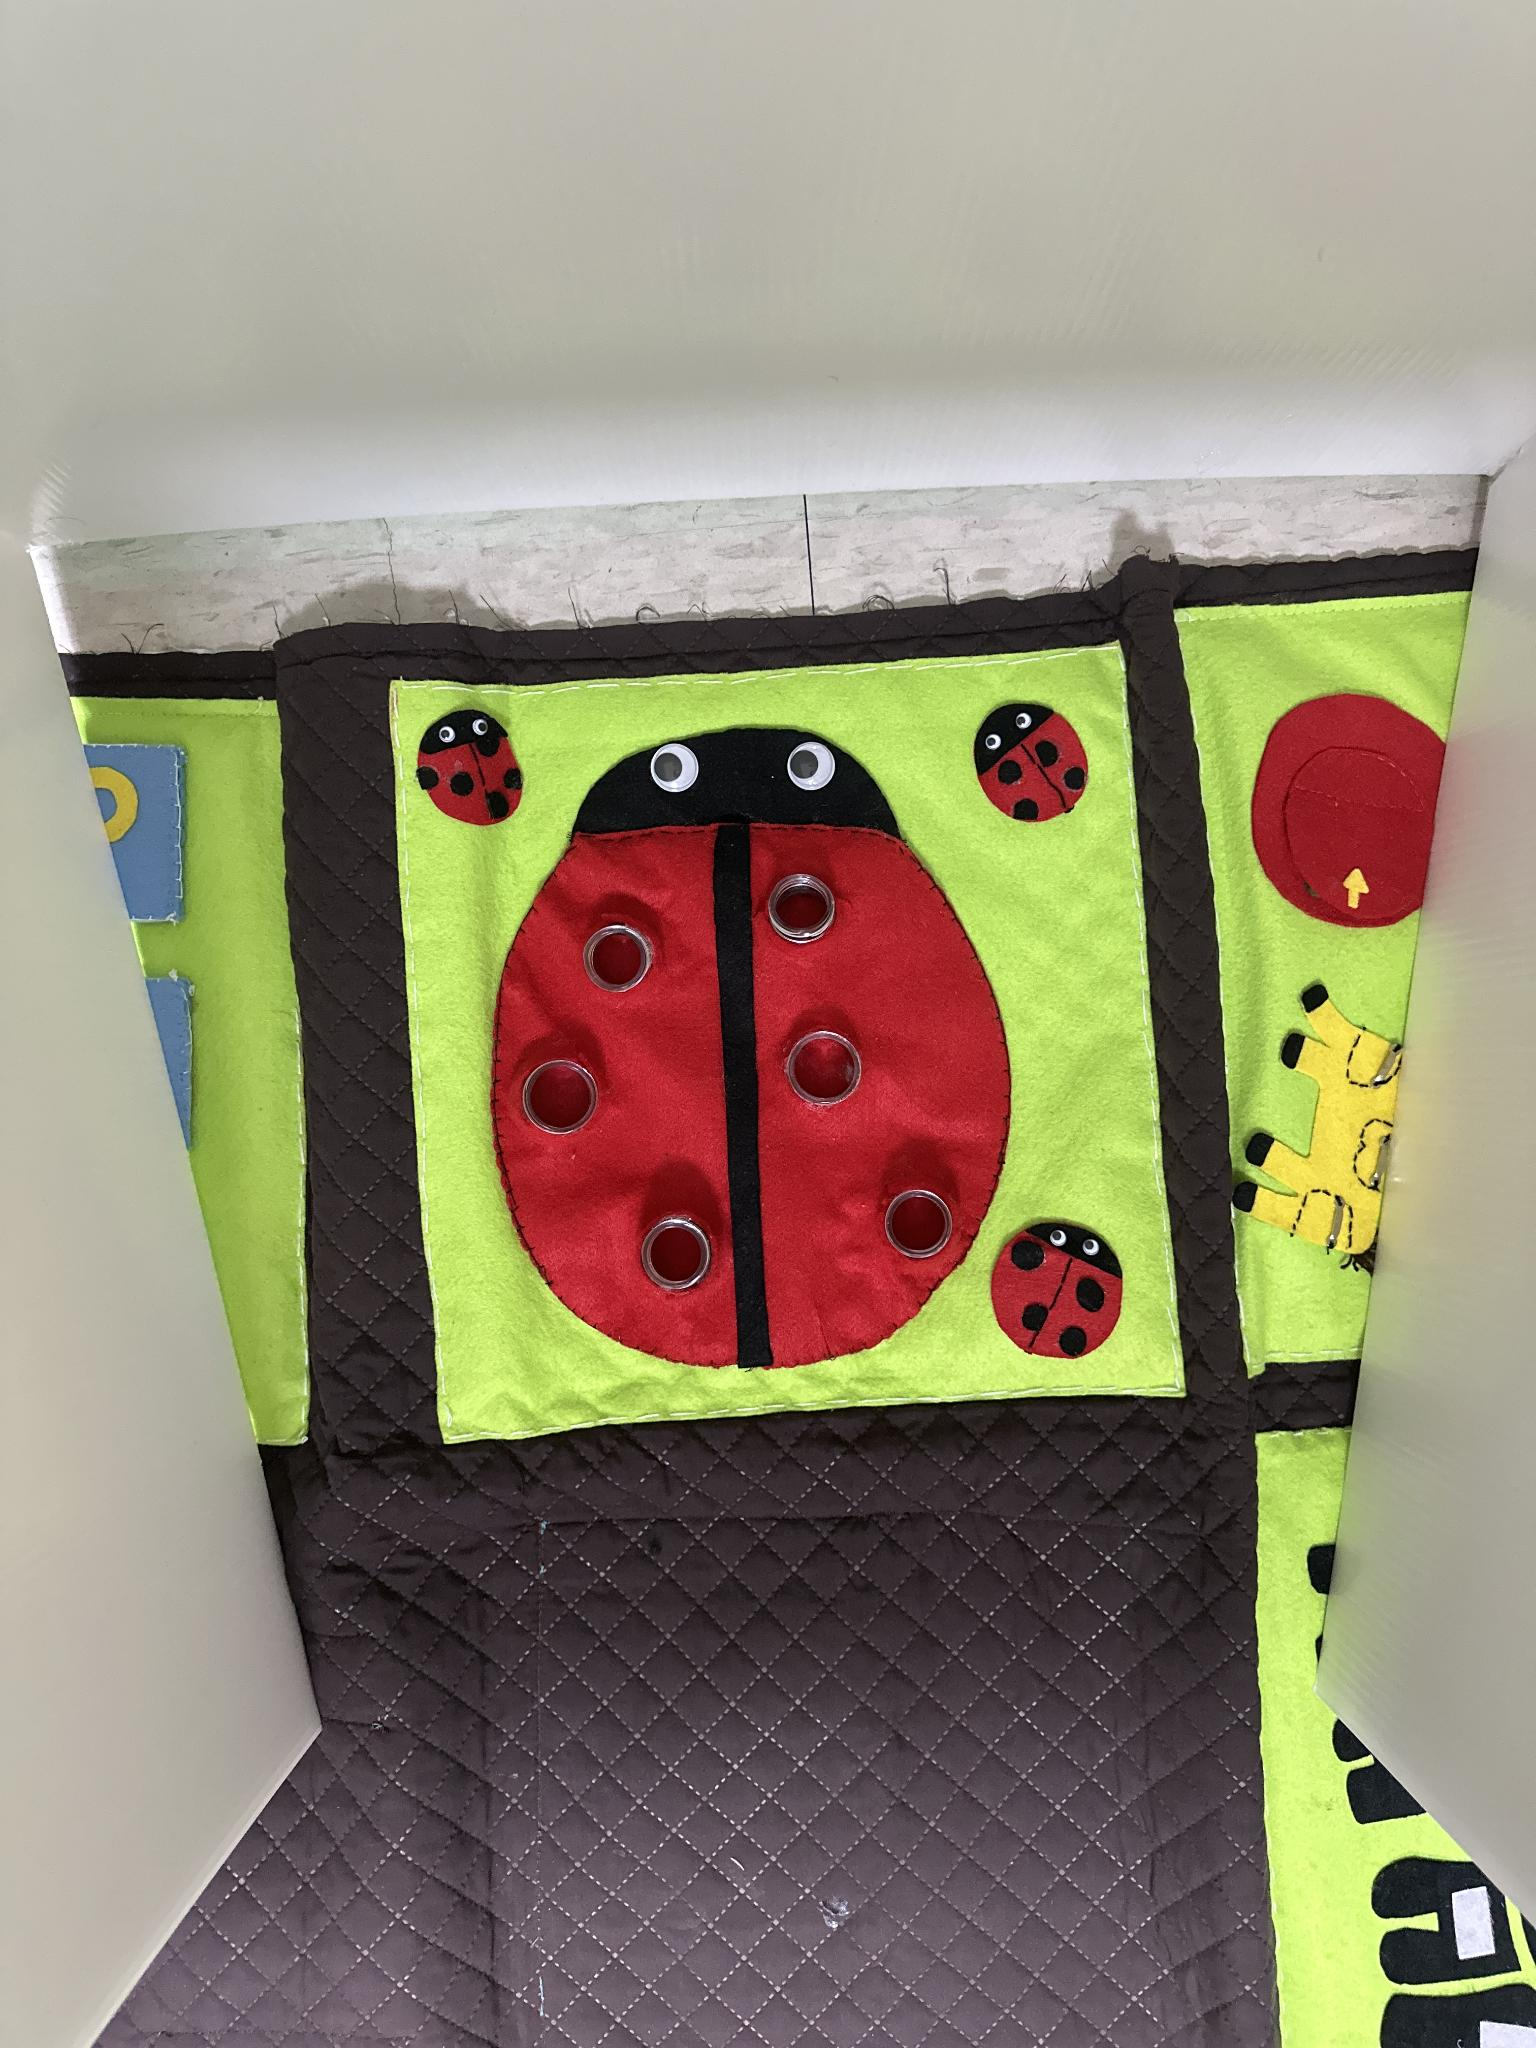hole: (641, 1205, 718, 1293), (570, 921, 653, 1001), (803, 1018, 870, 1119), (518, 1063, 595, 1138), (894, 1179, 954, 1248), (778, 880, 836, 951)
ladybug_case: (503, 727, 1007, 1371)
